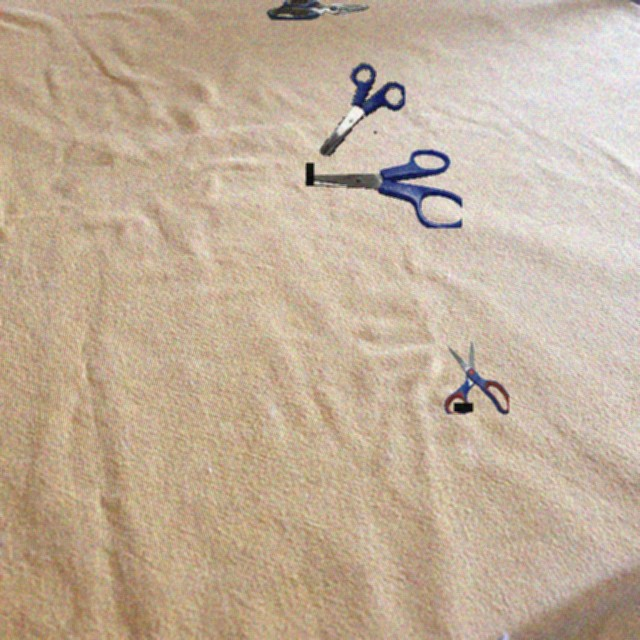scissors: (305, 149, 462, 228), (320, 63, 405, 156), (444, 340, 509, 414), (267, 0, 369, 20)
